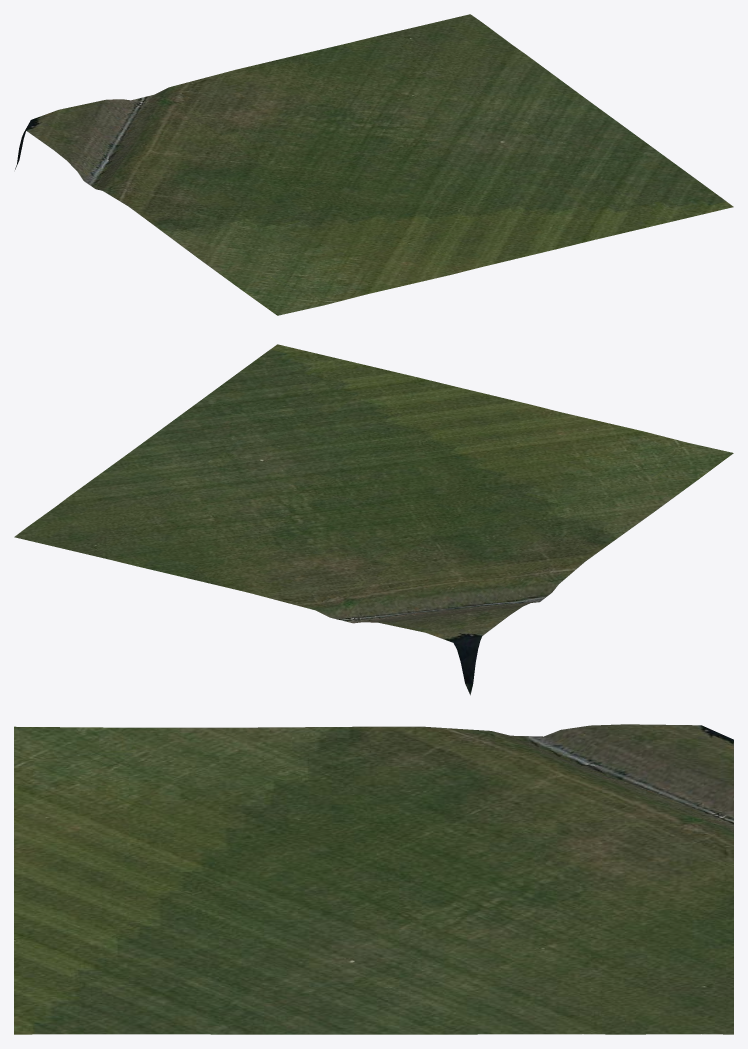
The model's file is map_15_8180_13788.dae.
3 renders of one model, top to bottom at view 1: azimuth 30°, elevation 25°; view 2: azimuth 150°, elevation 25°; view 3: azimuth 270°, elevation 25°, orthographic. The views are drawn at different scales.
Parts seen in each view (by area): view 1: Ter0; view 2: Ter0; view 3: Ter0.
Boxes of the visible parts, x1,y1,x2,y2 form: Ter0: [15, 14, 733, 315]; Ter0: [14, 344, 733, 695]; Ter0: [14, 724, 733, 1034].
Bounding box in the file's own units: 63.88 × 63.88 × 6.95.
3 materials, 3 textured.
